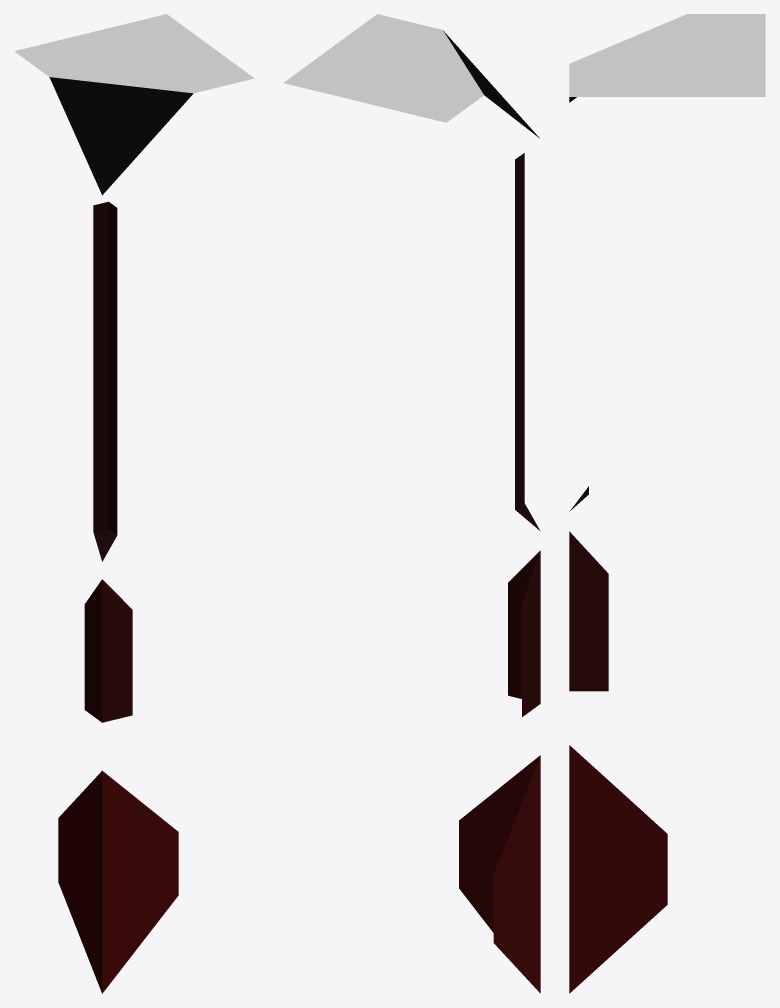
The model's file is Corner_Inside.fbx.
3 views of the same model, side by side, from view 1: azimuth 30°, elevation 25°; view 2: azimuth 150°, elevation 25°; view 3: azimuth 270°, elevation 25° (orthographic). The views are drawn at different scales.
Visible parts, largest first — view 1: Corner_Inside, Corner_Inside_Dark_Top; view 2: Corner_Inside, Corner_Inside_Dark_Top; view 3: Corner_Inside, Corner_Inside_Dark_Top.
Part boxes in pixels (box(x1,y1,x2,y2)): Corner_Inside: box(49, 77, 193, 993); Corner_Inside_Dark_Top: box(14, 14, 254, 93); Corner_Inside: box(443, 30, 540, 993); Corner_Inside_Dark_Top: box(283, 14, 483, 122); Corner_Inside: box(569, 97, 667, 993); Corner_Inside_Dark_Top: box(569, 14, 765, 96).
Bounding box in the file's own units: 50 × 275 × 50.01.
